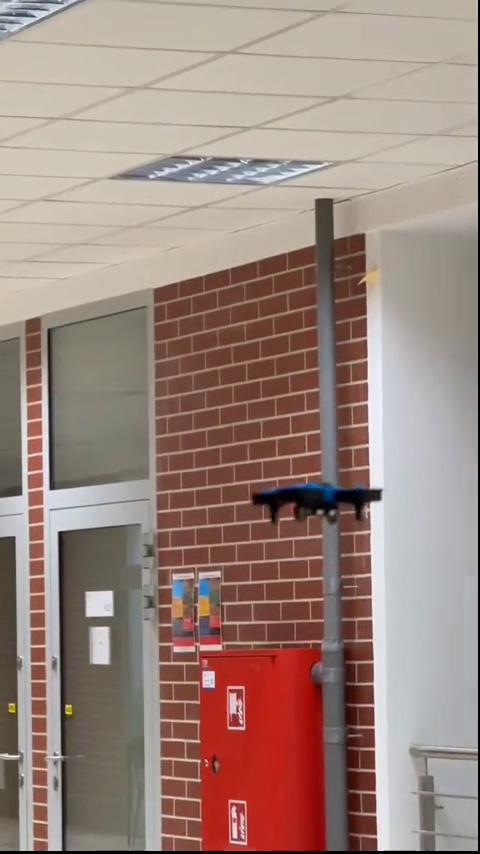drone: (251, 480, 382, 525)
